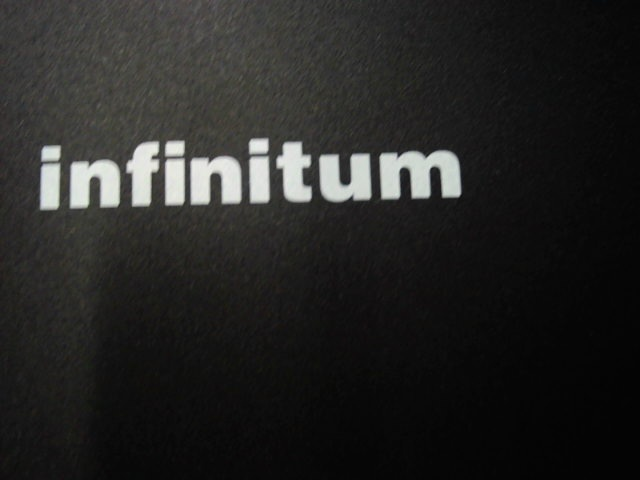BK_infinitum: (29, 136, 475, 213)
